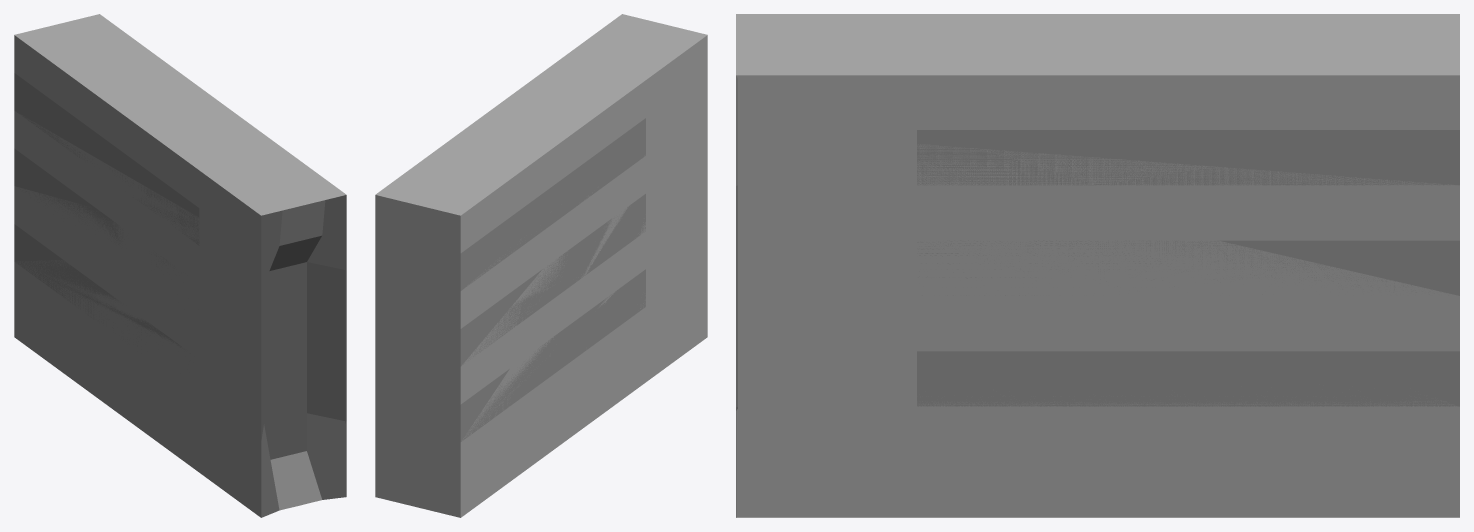
Rendered from Magazine.obj.
3 views of the same model, side by side, from view 1: azimuth 30°, elevation 25°; view 2: azimuth 150°, elevation 25°; view 3: azimuth 270°, elevation 25° (orthographic). The views are drawn at different scales.
Parts seen in each view (by area): view 1: Cube; view 2: Cube; view 3: Cube.
Part boxes in pixels (left/top/right/bottom): Cube: left=14, top=14, right=346, bottom=517; Cube: left=375, top=14, right=707, bottom=517; Cube: left=736, top=14, right=1459, bottom=517.
Bounding box in the file's own units: 0.16 × 0.54 × 0.8.
